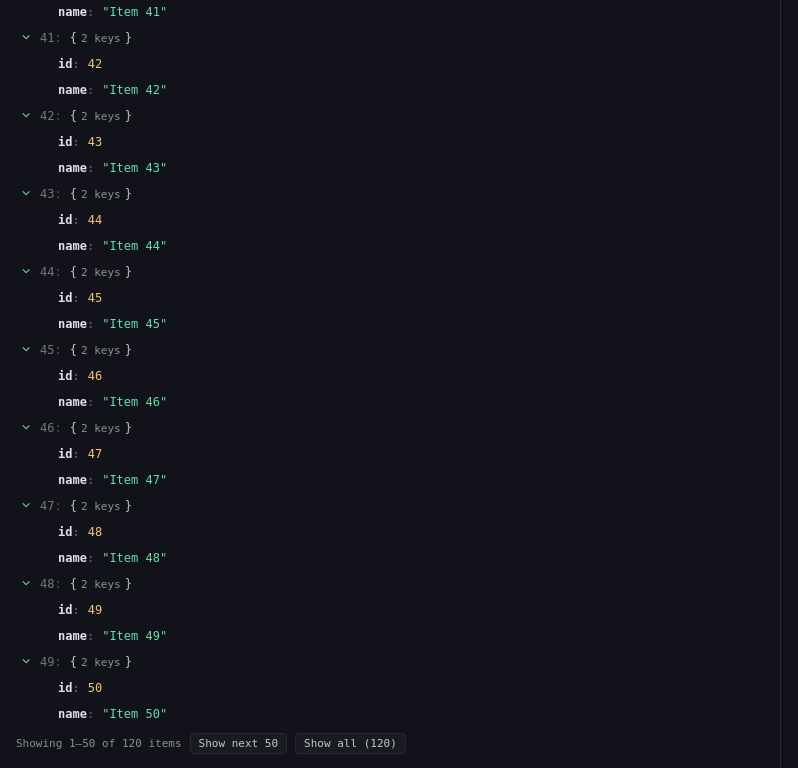
Inspector Component Suite › handles large arrays safely with windowed pagination controls
(page scrolled)
Expected: the text "Showing 1–50 of 120 items" is shown, [16,736,182,750]
Note: Click show next
Click the button "Show next 50".
click(238, 743)  # box [190,732,287,754]
(page scrolled)
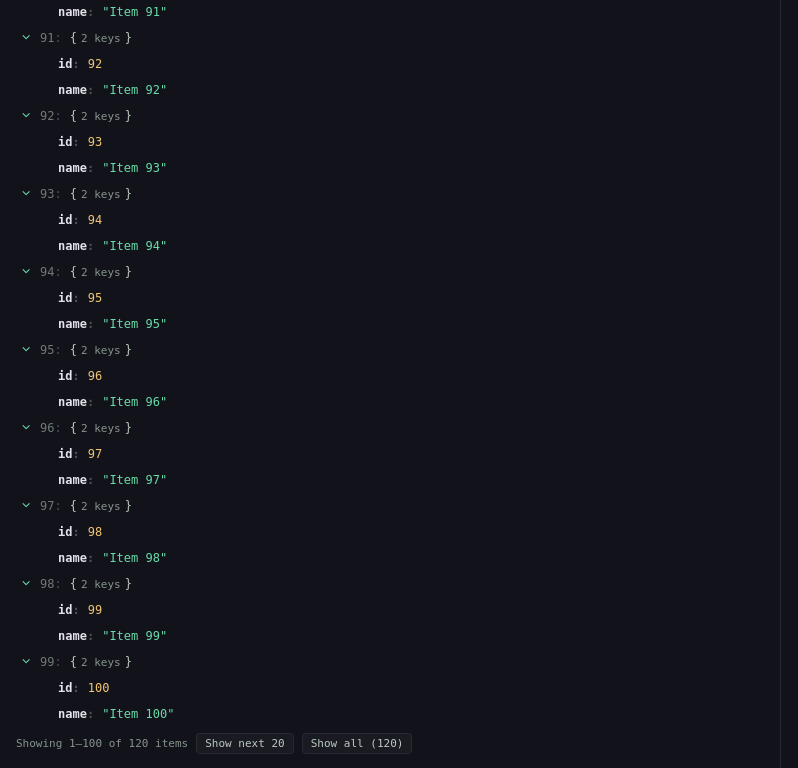
Now the text "Showing 1–100 of 120 items" is shown, box [16,736,188,750]
